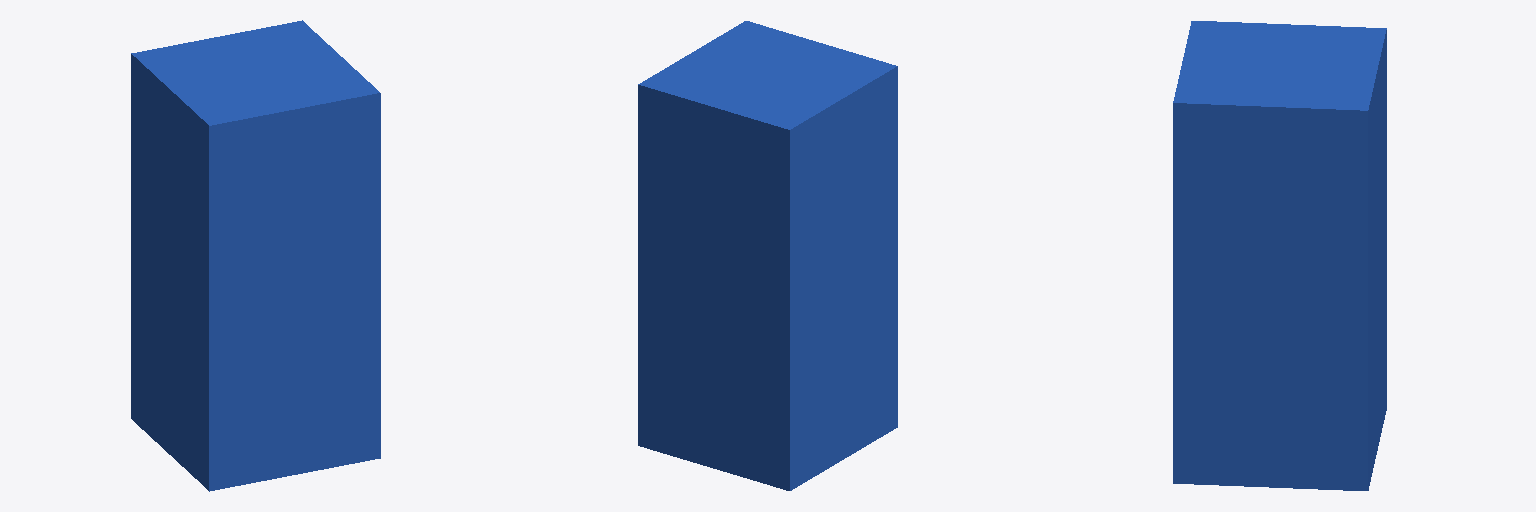
URDF robot description (Domino_18):
<robot name="Domino_18" version="1.0">
  <link name="Domino_18_link">
    <collision name="Cube.017_collision">
      <origin rpy="0.00000 0.00000 1.47573" xyz="-0.97445 0.92535 0.25000"/>
      <geometry>
        <box size="0.23335 0.23335 0.50000"/>
      </geometry>
    </collision>
    <inertial>
      <inertia ixx="0.00254" ixy="0.00000" ixz="0.00000" iyy="0.00254" iyz="0.00000" izz="0.00091"/>
      <origin rpy="0.00000 0.00000 0.00000" xyz="-0.97445 0.92535 0.25000"/>
      <mass value="0.10000"/>
    </inertial>
    <visual name="Cube.017">
      <material name="turnarrow"/>
      <origin rpy="0.00000 0.00000 1.47573" xyz="-0.97445 0.92535 0.25000"/>
      <geometry>
        <box size="0.23335 0.23335 0.50000"/>
      </geometry>
    </visual>
  </link>
  <material name="turnarrow">
    <color rgba="0.23137 0.44706 0.80000 1.00000"/>
  </material>
</robot>

--- Render facts (derived) ---
3 views of the same robot in one strip: view 1: azimuth 30°, elevation 25°; view 2: azimuth 150°, elevation 25°; view 3: azimuth 270°, elevation 25° (orthographic).
Robot: Domino_18 — 1 links, 0 joints (none); root link Domino_18_link; default pose: every joint at zero.
Links seen in each view (by area): view 1: Domino_18_link; view 2: Domino_18_link; view 3: Domino_18_link.
Boxes of the visible links, <box> form: Domino_18_link: <box>131,20,380,491</box>; Domino_18_link: <box>638,21,897,490</box>; Domino_18_link: <box>1173,21,1386,490</box>.
Size in the robot's own frame: 0.2544 by 0.2544 by 0.5 metres.
Geometry: primitives only (box / cylinder / sphere), no mesh files.